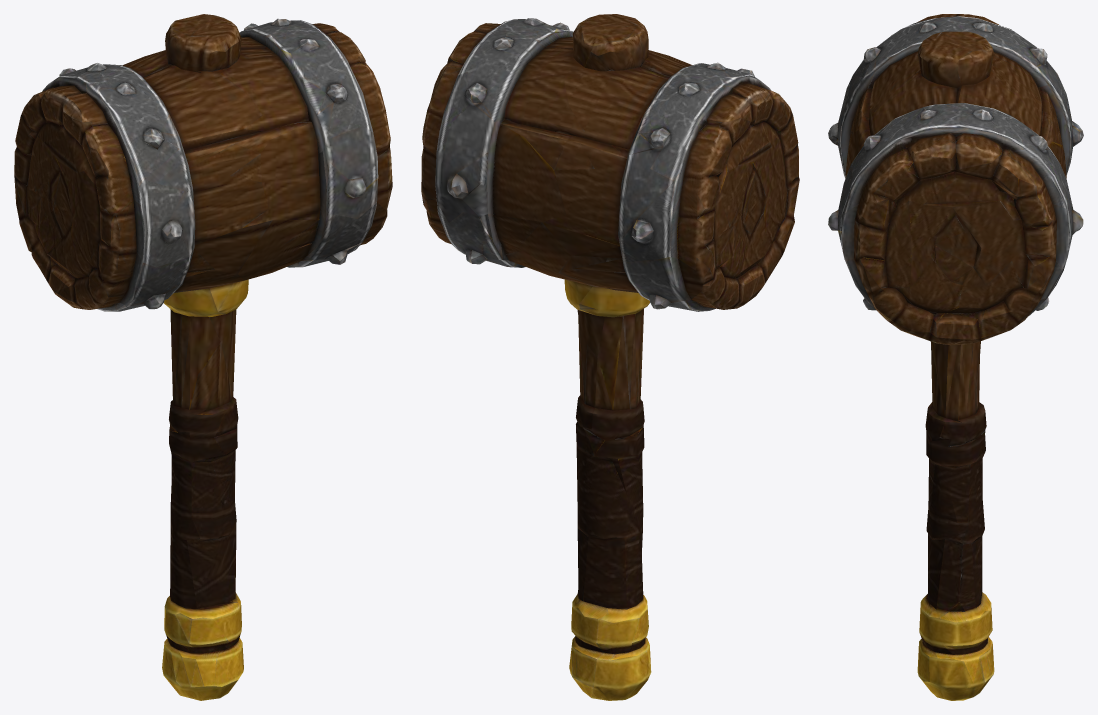
File: brickbreaker_mallet.glb
The picture shows the model from 3 angles, left to right: view 1: azimuth 30°, elevation 25°; view 2: azimuth 150°, elevation 25°; view 3: azimuth 270°, elevation 25°; orthographic projection. The views are drawn at different scales.
Bounding box in the file's own units: 0.5181 × 1.14 × 0.4067.
1 material, 1 textured.
